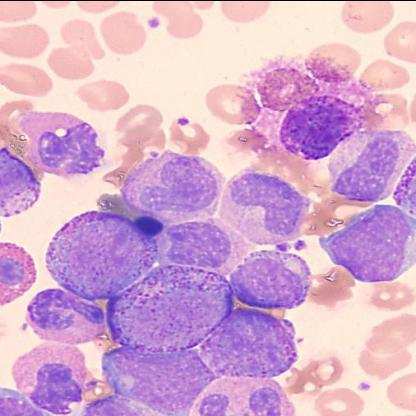Promyelocyte: (108, 262, 236, 353), (46, 210, 161, 301)
